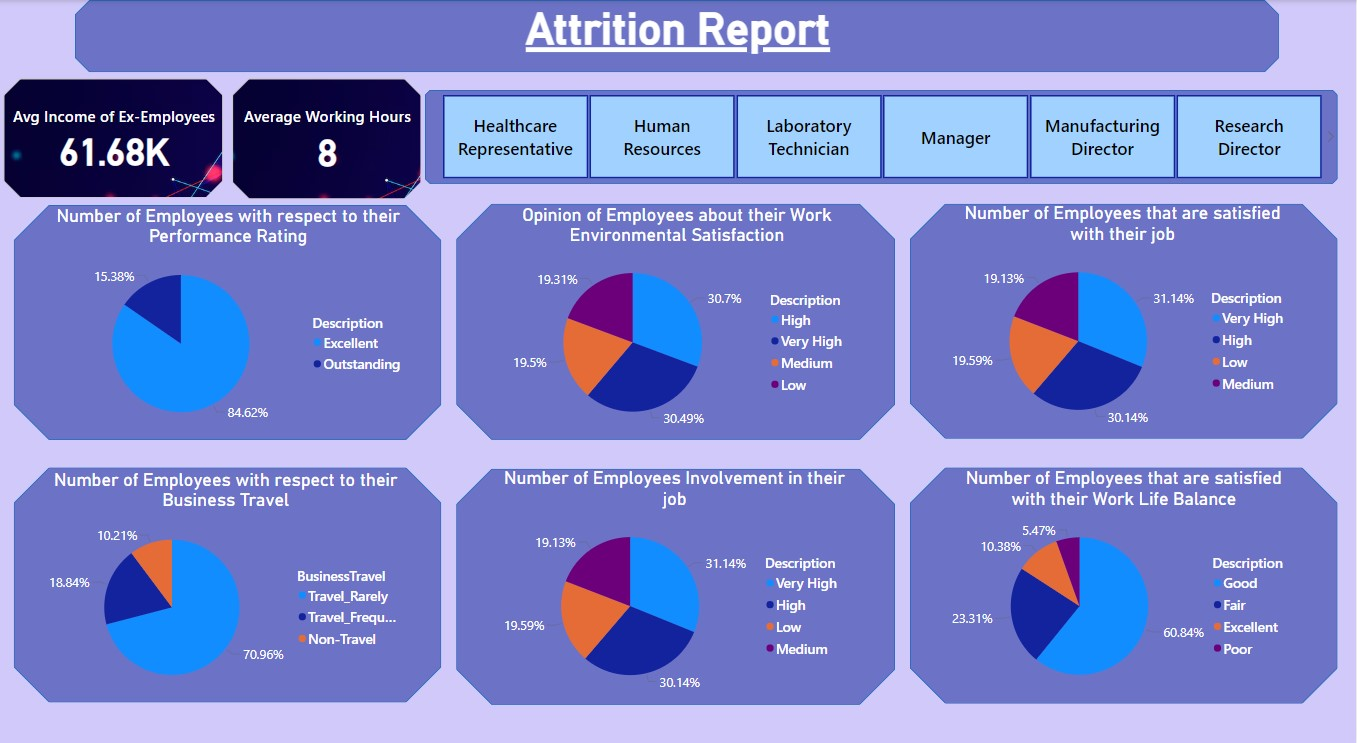

The dashboard page shown, as its layout file describes it:
{"tool":"powerbi","page":{"name":"Satisfaction Dashboard","canvas":[2000,1100],"ordinal":1},"visuals":[{"type":"shape","box":[110.6,0,1775.5,106.6],"z":0},{"type":"textbox","box":[737.9,0,524.8,90.5],"z":1000},{"type":"shape","box":[1341.8,689.3,630.4,348.4],"z":2000},{"type":"shape","box":[1341.8,300.4,630.4,346.5],"z":3000},{"type":"shape","box":[626.7,132.7,1345.5,138.2],"z":4000},{"type":"slicer","title":"OverallAttritionRate by Gender","fields":{"Values":["Attrition data.JobRole"]},"box":[626.1,132.9,1346.5,137.2],"z":5000},{"type":"shape","box":[672.8,300.4,647,348.4],"z":6000},{"type":"pieChart","title":"Number of Employees that are satisfied with their job","fields":{"Category":["Job Satisfaction.Column2"],"Y":["CountNonNull(Attrition data.EmployeeID)"]},"box":[1389.8,298.6,530.8,348.4],"z":7000},{"type":"pieChart","title":"Opinion of Employees about their Work Environmental Satisfaction","fields":{"Category":["Environmental Satisfaction.Description"],"Y":["CountNonNull(Attrition data.EmployeeID)"]},"box":[726.2,300.4,543.7,348.4],"z":8000},{"type":"pieChart","title":"Number of Employees that are satisfied with their Work Life Balance","fields":{"Category":["WLB.Description"],"Y":["CountNonNull(Attrition data.EmployeeID)"]},"box":[1391.6,689.3,530.8,348.4],"z":9000},{"type":"shape","box":[672.8,691.2,647,348.4],"z":10000},{"type":"pieChart","title":"Number of Employees Involvement in their job","fields":{"Category":["Job Satisfaction.Column2"],"Y":["CountNonNull(Attrition data.EmployeeID)"]},"box":[726.2,689.3,536.4,348.4],"z":11000},{"type":"shape","box":[20.3,689.3,630.4,346.5],"z":12000},{"type":"pieChart","title":"Number of Employees with respect to their Business Travel","fields":{"Category":["Attrition data.BusinessTravel"],"Y":["CountNonNull(Attrition data.EmployeeID)"]},"box":[64.5,691.2,536.4,348.4],"z":13000},{"type":"cardVisual","fields":{"Data":["Measure.AMI of Ex-Employees"]},"box":[0,111.5,334.5,186.5],"z":14000},{"type":"cardVisual","fields":{"Data":["Measure.Average Working Hours"]},"box":[336.6,111.5,289.5,188.7],"z":15000},{"type":"shape","box":[20.3,302.3,630.4,346.5],"z":16000},{"type":"pieChart","title":"Number of Employees with respect to their Performance Rating","fields":{"Category":["Performance Rating.Description"],"Y":["CountNonNull(Attrition data.EmployeeID)"]},"box":[68.2,302.3,536.4,348.4],"z":17000}]}

Visuals, with their boxes in screenshot pixels (x1, y1, x2, y2), scaled from the page's 2000x1100 canvas onto the 1357x743 screenshot:
shape: bbox=(75, 0, 1280, 72)
textbox: bbox=(501, 0, 857, 61)
shape: bbox=(910, 466, 1338, 701)
shape: bbox=(910, 203, 1338, 437)
shape: bbox=(425, 90, 1338, 183)
"OverallAttritionRate by Gender" slicer: bbox=(425, 90, 1338, 182)
shape: bbox=(456, 203, 895, 438)
"Number of Employees that are satisfied with their job" pieChart: bbox=(943, 202, 1303, 437)
"Opinion of Employees about their Work Environmental Satisfaction" pieChart: bbox=(493, 203, 862, 438)
"Number of Employees that are satisfied with their Work Life Balance" pieChart: bbox=(944, 466, 1304, 701)
shape: bbox=(456, 467, 895, 702)
"Number of Employees Involvement in their job" pieChart: bbox=(493, 466, 857, 701)
shape: bbox=(14, 466, 441, 700)
"Number of Employees with respect to their Business Travel" pieChart: bbox=(44, 467, 408, 702)
cardVisual - Measure.AMI of Ex-Employees: bbox=(0, 75, 227, 201)
cardVisual - Measure.Average Working Hours: bbox=(228, 75, 425, 203)
shape: bbox=(14, 204, 441, 438)
"Number of Employees with respect to their Performance Rating" pieChart: bbox=(46, 204, 410, 440)
